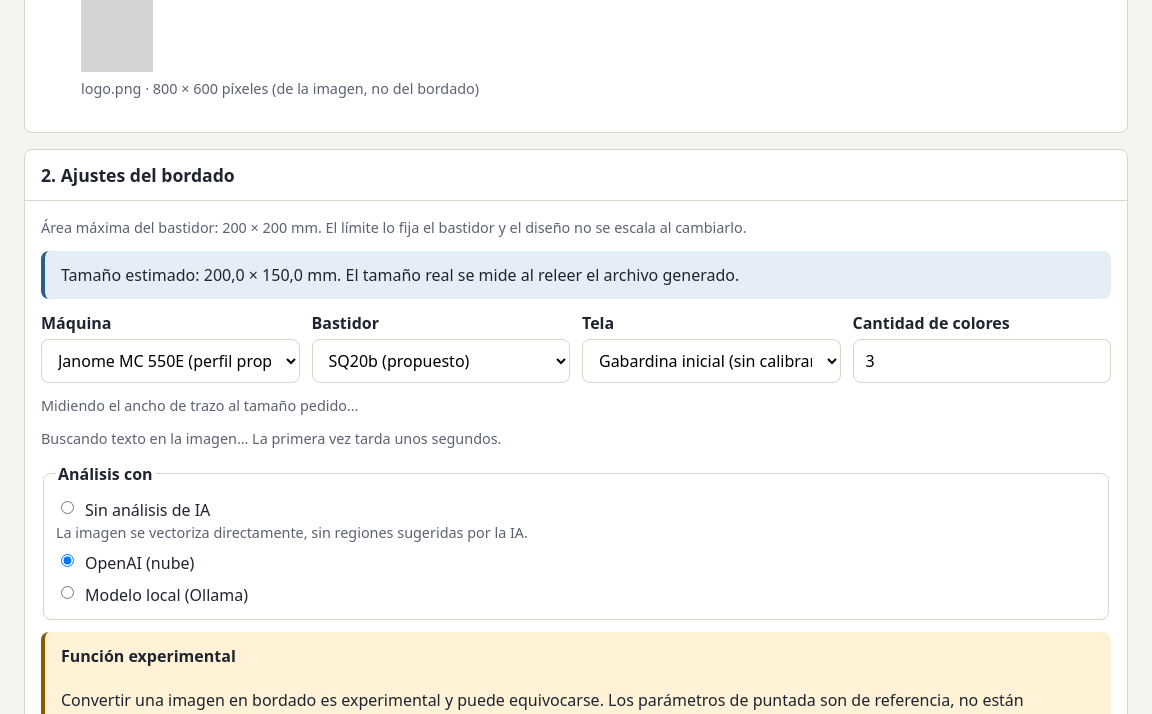
Test: recorrido principal (cliente SIMULADO) › el límite sale del bastidor: no hay campos libres de ancho ni alto y el diseño no se escala al cambiarlo
Earlier steps of the test are not shown.
(page scrolled)
Expected: the text "Área máxima del bastidor: 200 × 200 mm" is shown, [41, 218, 746, 237]
Replace the text in the number field labelled "Cantidad de colores" with "99": (982, 361) [852, 339, 1111, 383]
(page scrolled)
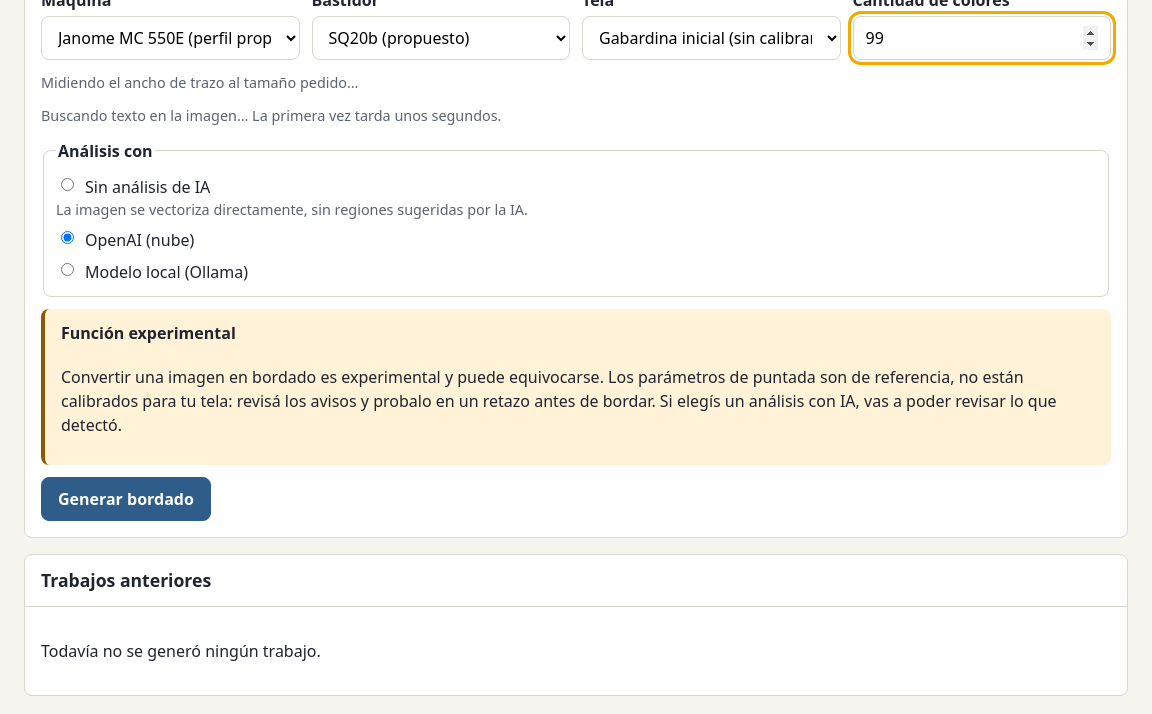
Click the button "Generar bordado": click(126, 500) [41, 478, 211, 522]
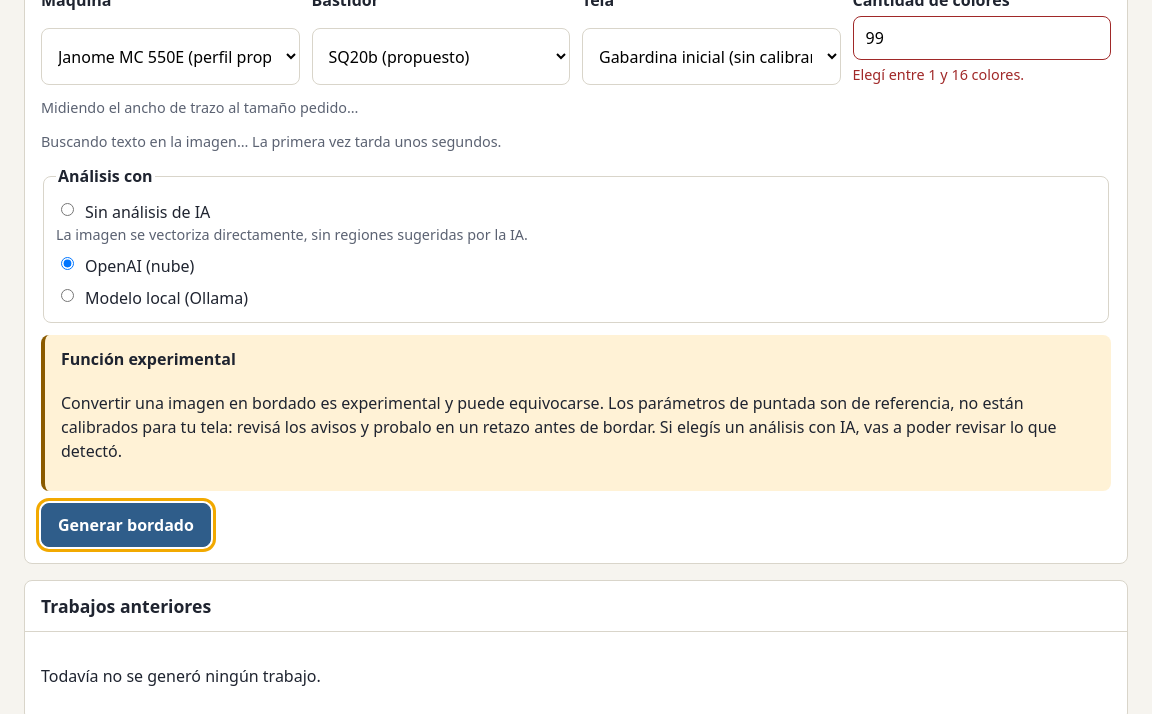
Expected: the text "Elegí entre 1 y 16 colores." is shown, [852, 65, 1024, 84]
